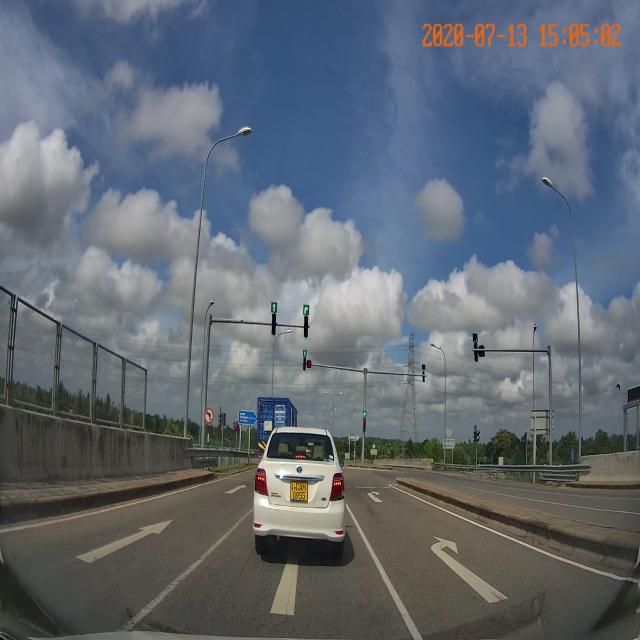Strelka vpered: (72, 518, 176, 565)
Strelka vpravo: (426, 534, 512, 606)
